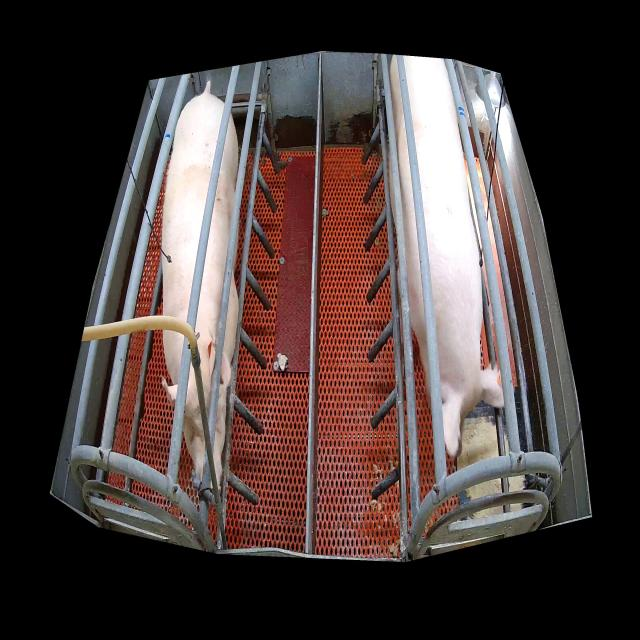pig: (389, 57, 504, 457), (162, 95, 239, 495)
